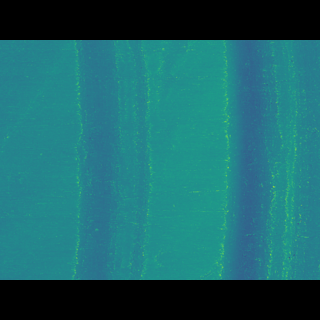Loch: (216, 70, 320, 251), (69, 70, 153, 249)
